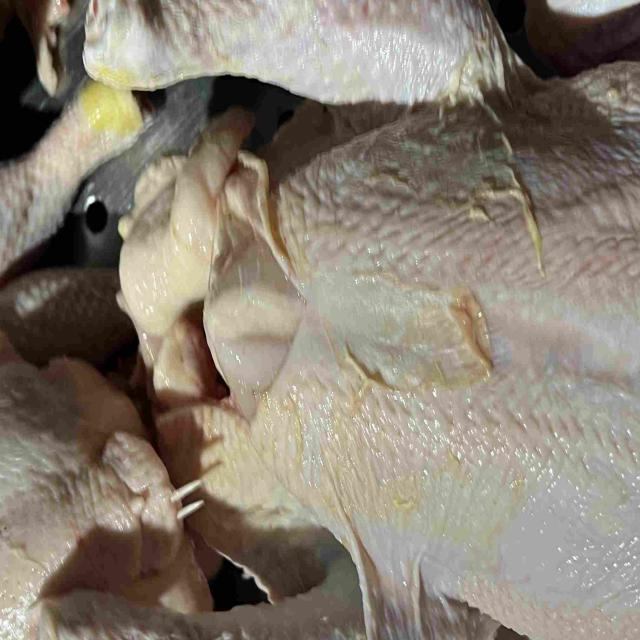breast: (212, 73, 640, 640)
leg: (80, 0, 521, 128), (38, 560, 505, 640), (0, 81, 144, 279)
